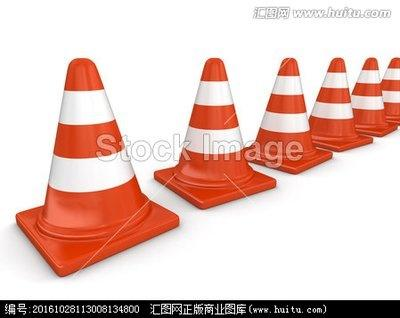cone_barrel: (24, 53, 160, 251), (158, 55, 264, 200), (248, 55, 318, 170), (306, 54, 363, 145), (349, 57, 390, 133), (380, 54, 399, 120)
